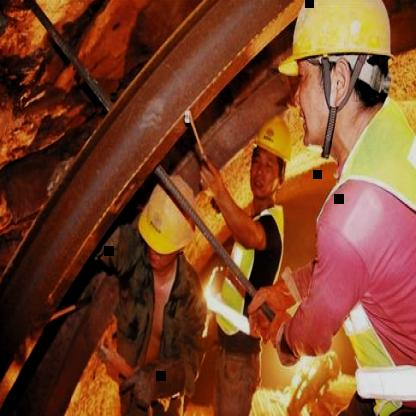helmet: (279, 0, 399, 103), (131, 165, 201, 256), (246, 114, 295, 167)
